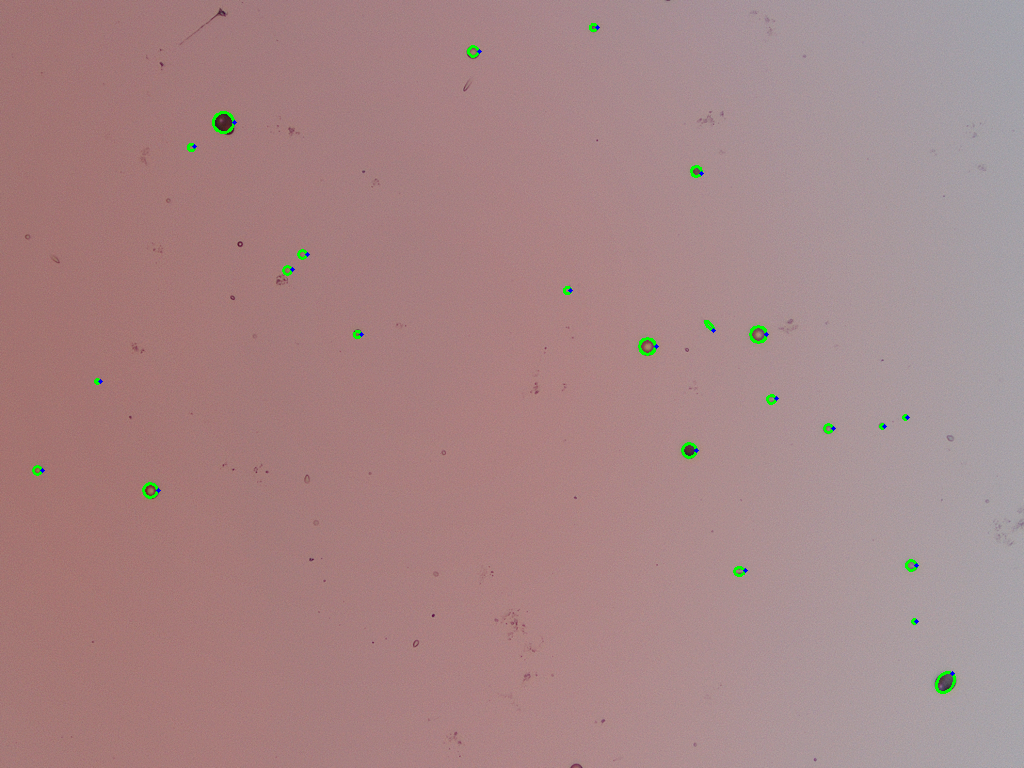circle: (213, 112, 234, 132), (639, 338, 656, 355), (750, 326, 766, 342), (143, 483, 158, 498), (681, 443, 696, 458), (467, 45, 479, 57), (905, 559, 916, 570), (823, 424, 833, 433), (32, 465, 42, 474), (298, 249, 307, 258), (283, 265, 292, 274), (353, 330, 361, 337), (590, 24, 597, 31), (187, 143, 194, 150), (564, 287, 570, 293), (879, 423, 884, 429), (94, 378, 100, 383), (902, 414, 907, 419), (911, 619, 916, 624)
ellipse: (765, 395, 777, 403), (733, 568, 745, 574)
